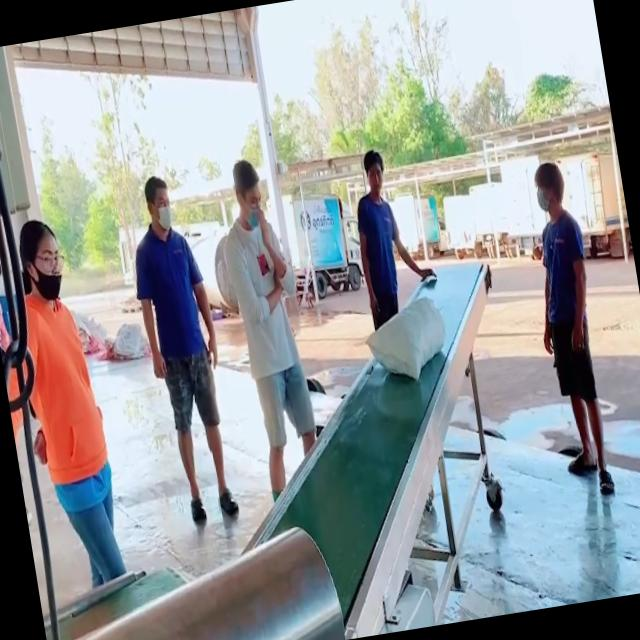ice-bag: (356, 267, 459, 392)
